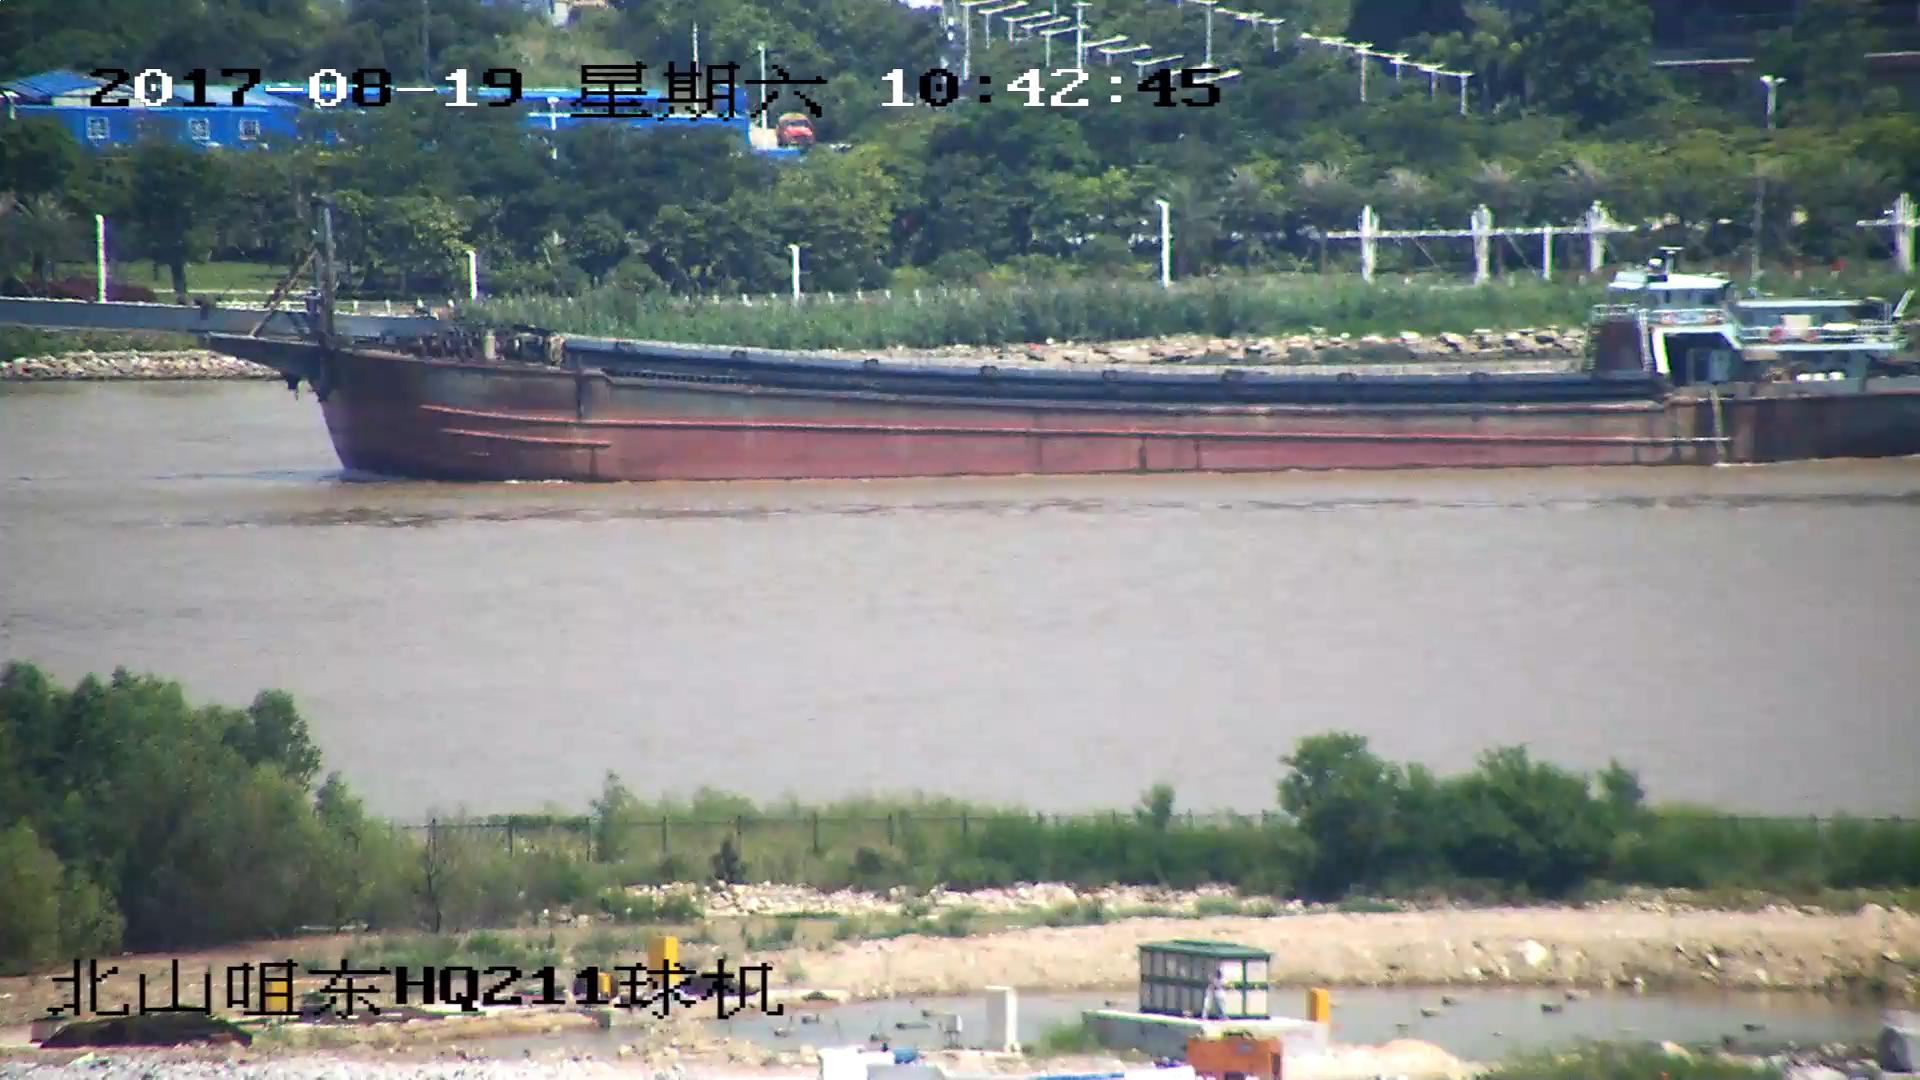bulk cargo carrier: (1, 195, 1920, 485)
